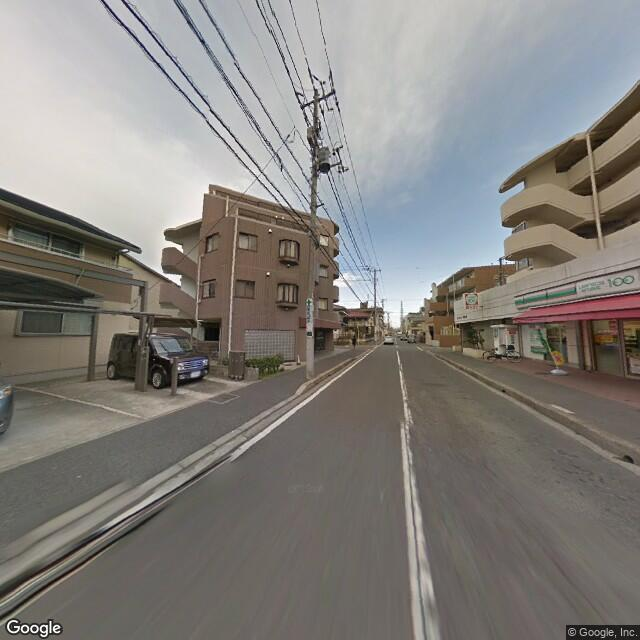lawson: (514, 268, 638, 314)
